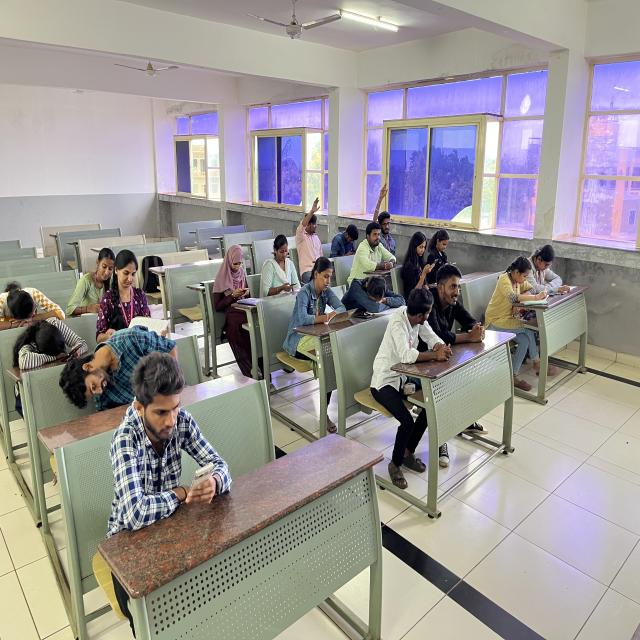Hand Rising: (291, 193, 338, 269), (372, 180, 404, 253)
Reading: (99, 244, 171, 339), (486, 250, 546, 310), (530, 233, 578, 300)
Sleeping: (0, 274, 74, 328), (7, 306, 74, 364), (348, 264, 400, 321)
Using Phone: (116, 338, 234, 514), (199, 237, 257, 311), (258, 227, 304, 298), (396, 227, 441, 281), (424, 220, 464, 275), (327, 219, 362, 265)
Writing: (289, 254, 355, 339), (65, 234, 120, 320)
